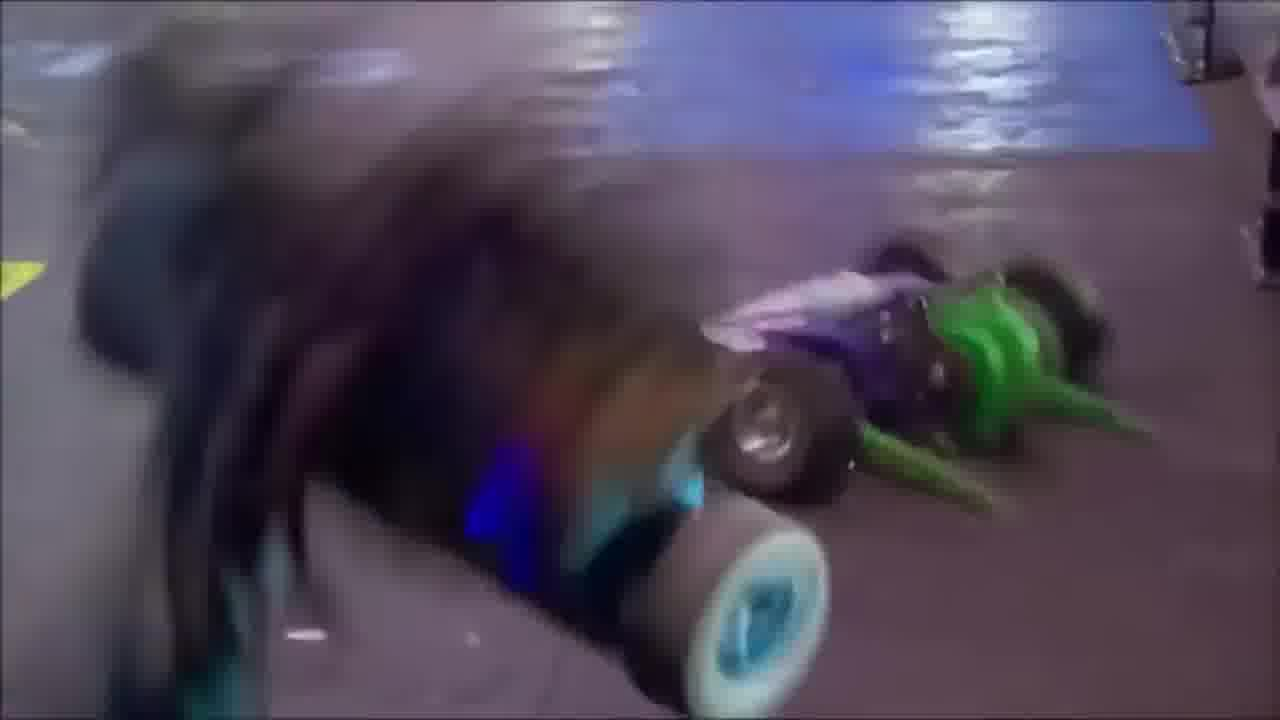combatbot: (69, 45, 841, 720), (700, 228, 1154, 523)
